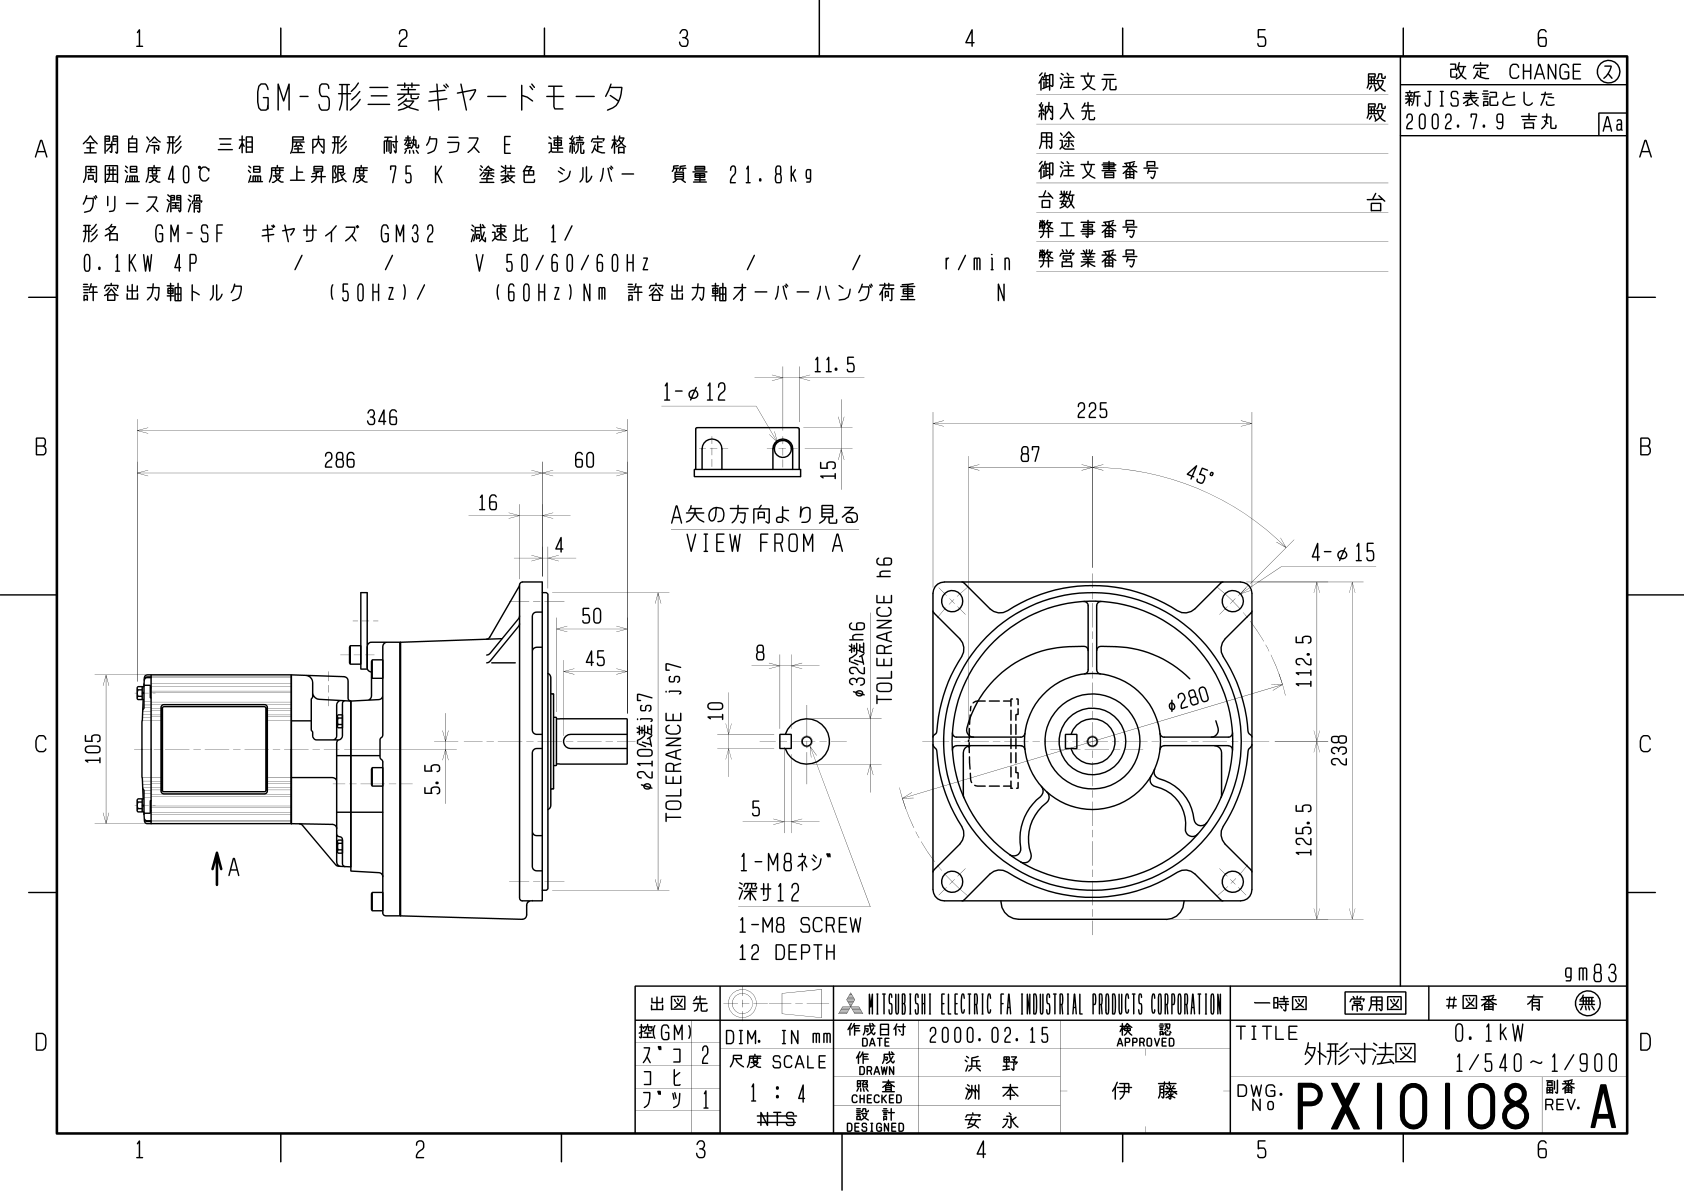GM_S_屋内＿三相_フランジ: (71, 342, 1389, 969)
